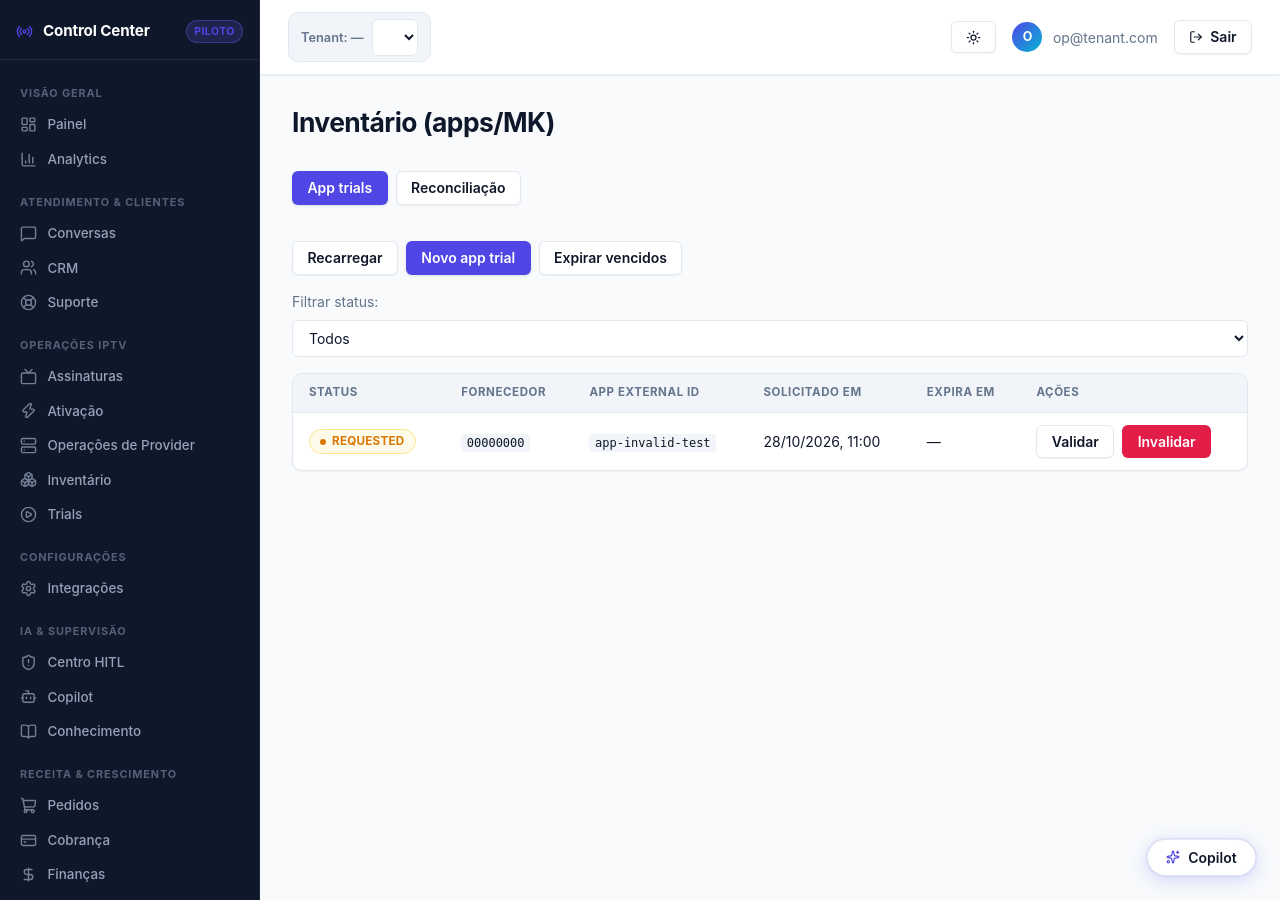
Scenario: InventoryPage › permite invalidar app trial com justificativa
Expected: the heading "Inventário (apps/MK)" is shown, x1=292 y1=106 x2=555 y2=138
// Clica em Invalidar
Click the button "Invalidar": (1167, 442) x1=1122 y1=425 x2=1211 y2=458
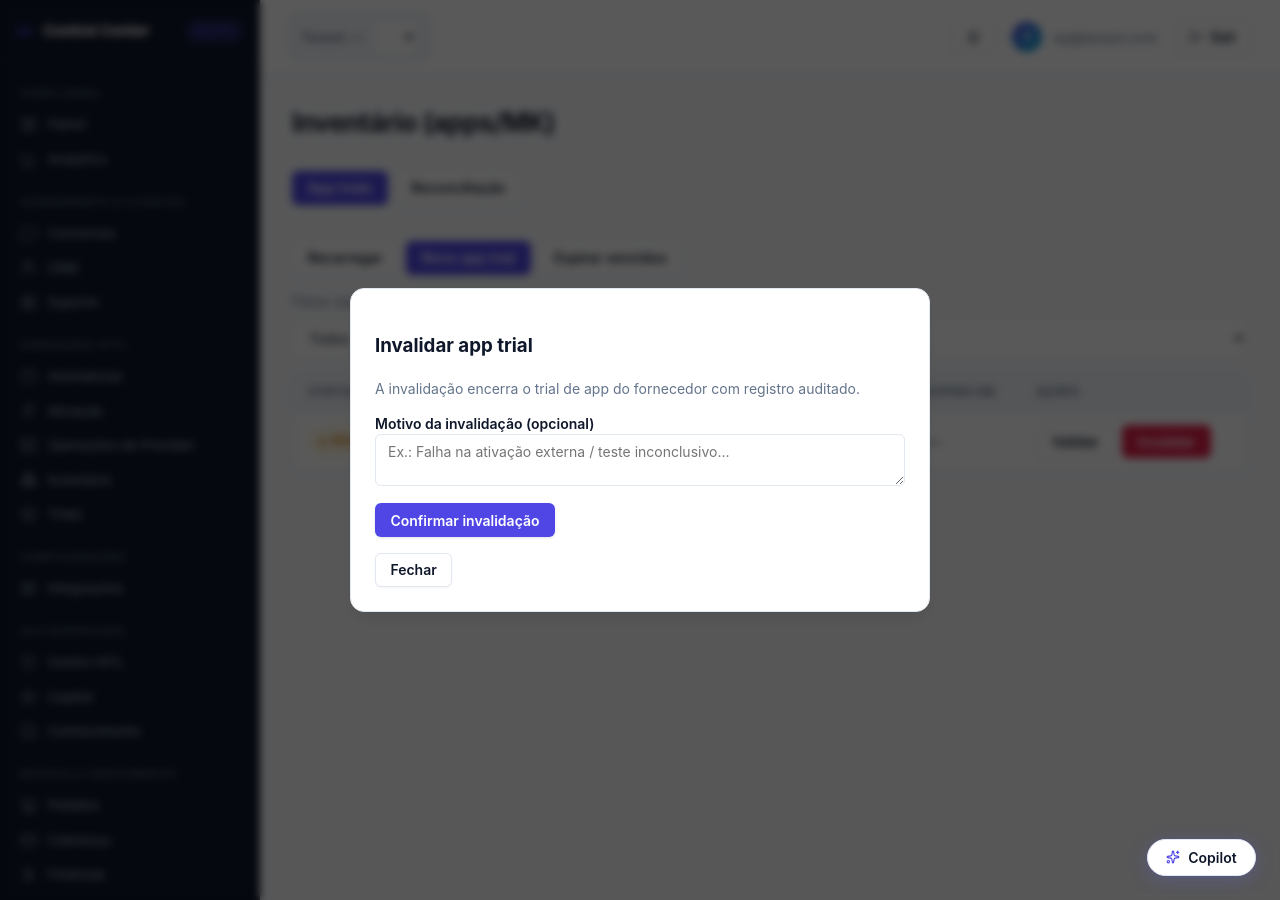
// Informa justificativa
In the text box: (640, 460) x1=375 y1=434 x2=905 y2=486, type "Falha de credencial do app externo"
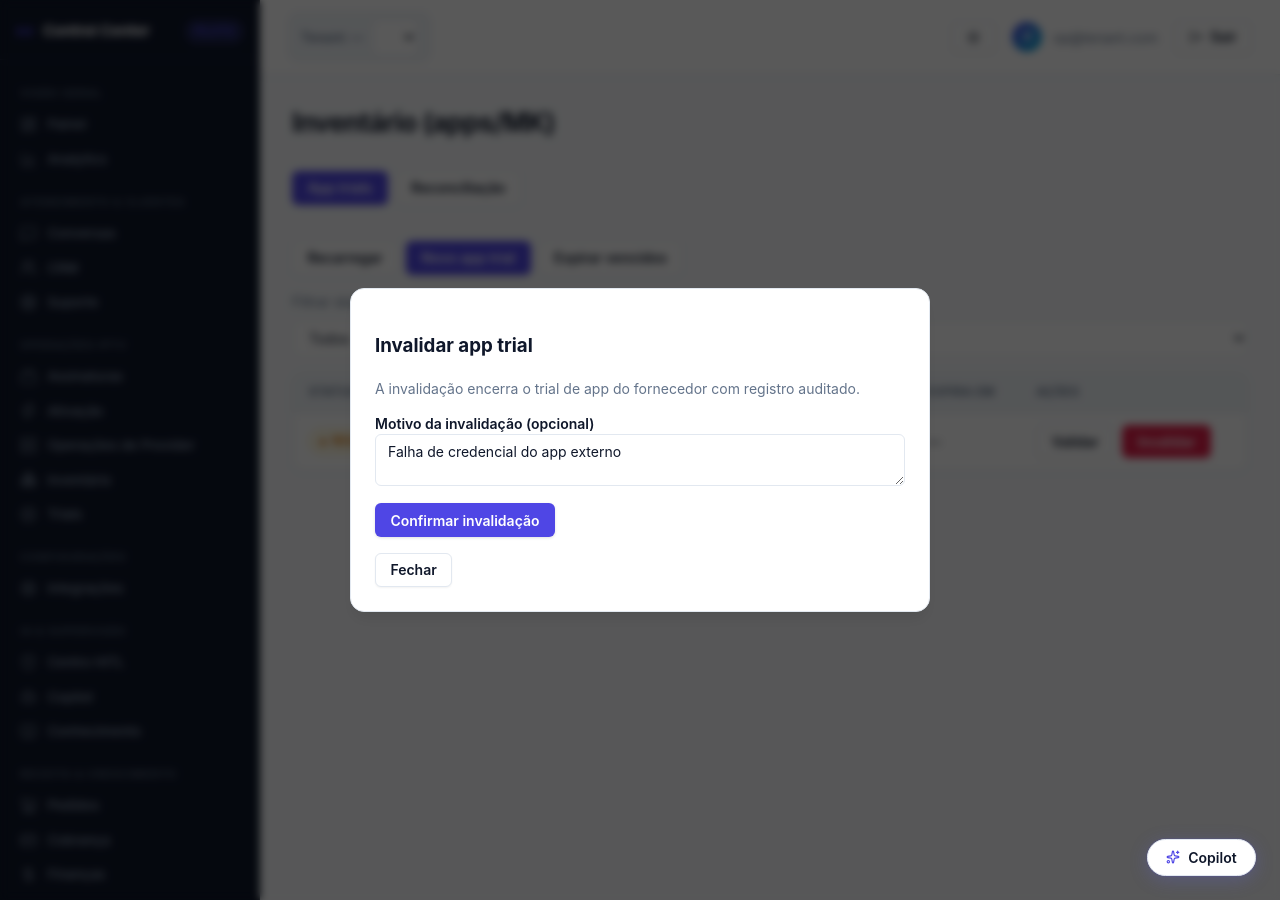
Click the button "Confirmar invalidação": (465, 520) x1=375 y1=503 x2=555 y2=537
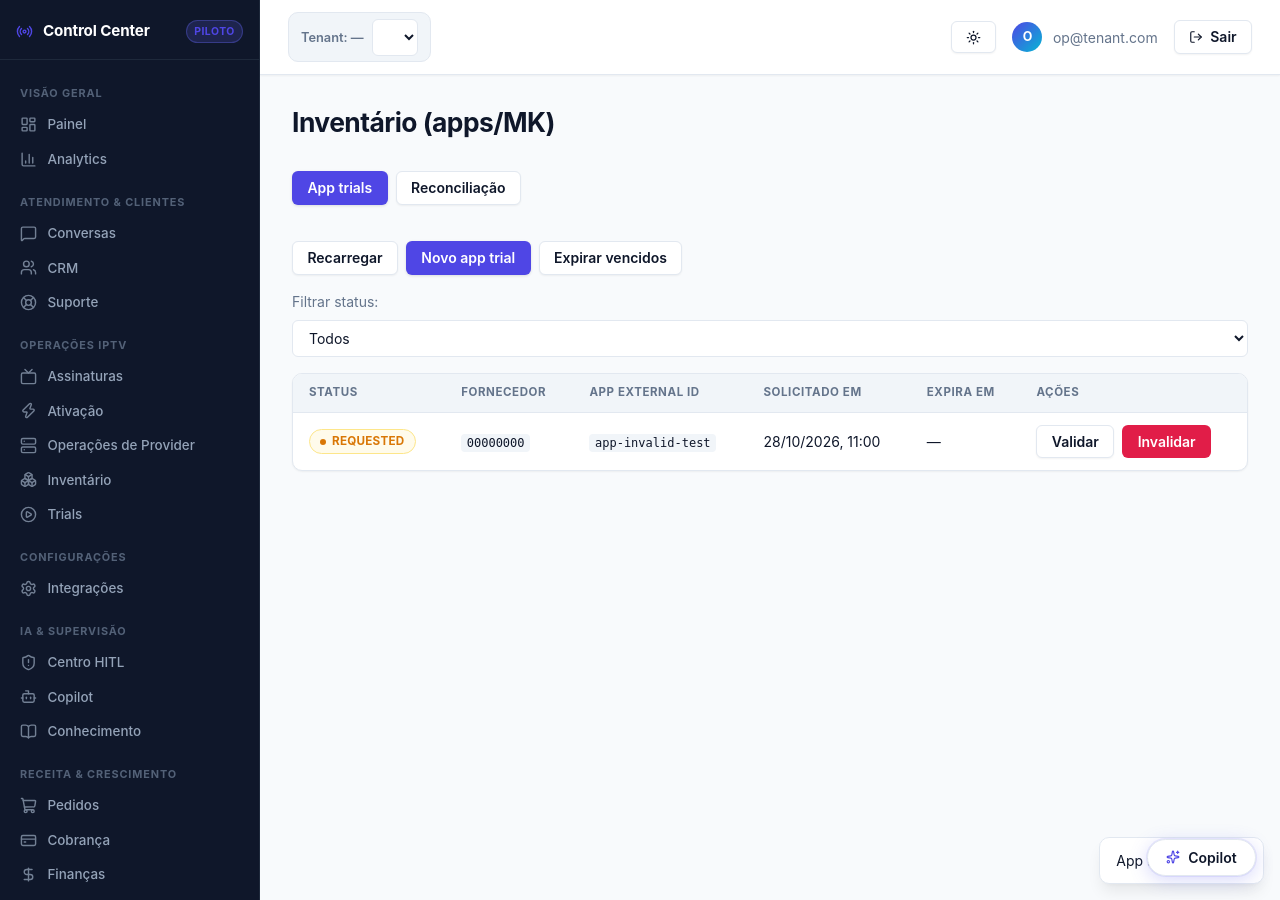
Result: the text "App trial invalidado." is shown at x1=1099 y1=837 x2=1264 y2=884
